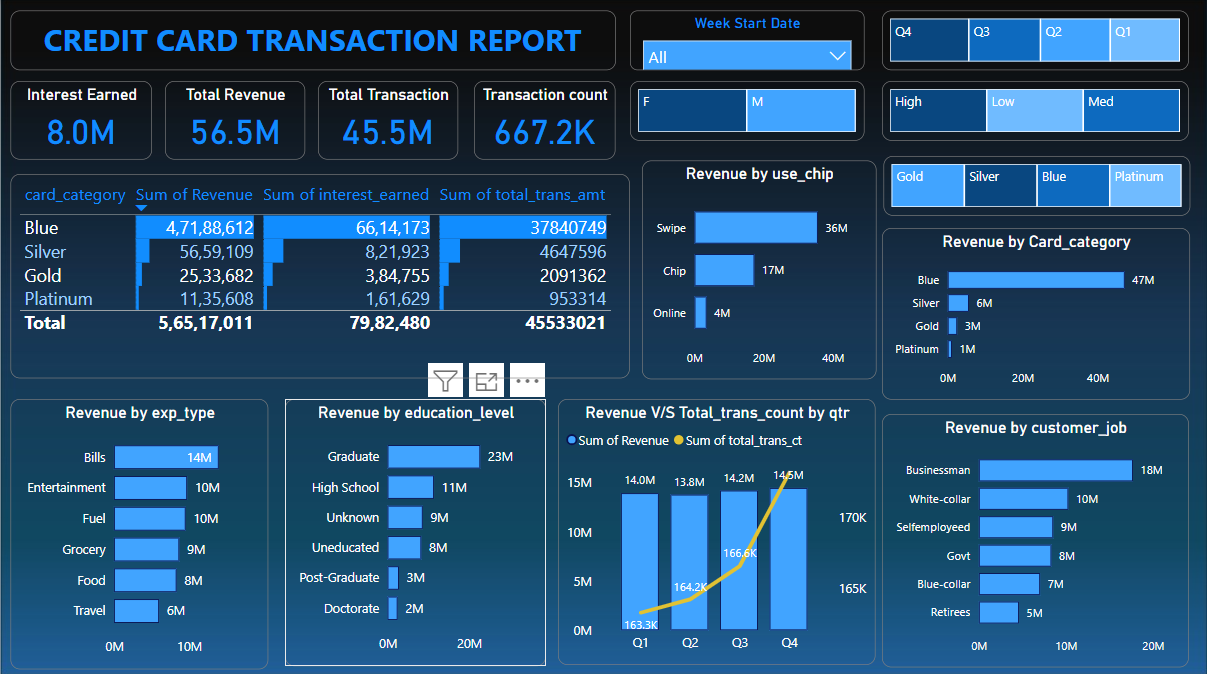

Layout of this report page (visuals, bound fields, positions):
{"tool":"powerbi","page":{"name":"CC Transaction","canvas":[1280,720],"ordinal":0},"visuals":[{"type":"lineClusteredColumnComboChart","title":"Revenue V/S Total_trans_count by qtr","fields":{"Category":["public cc_details.qtr"],"Y":["Sum(public cc_details.Revenue)"],"Y2":["Sum(public cc_details.total_trans_ct)"]},"box":[591.7,423.3,336.7,281.7],"z":0},{"type":"barChart","title":"Revenue by exp_type","fields":{"Category":["public cc_details.exp_type"],"Y":["Sum(public cc_details.Revenue)"]},"box":[11.7,423.3,273.3,286.7],"z":1000},{"type":"clusteredBarChart","title":"Revenue by customer_job","fields":{"Y":["Sum(public cc_details.Revenue)"],"Category":["public cust_detail.customer_job"]},"box":[935,438.3,325,268.3],"z":2000},{"type":"clusteredBarChart","title":"Revenue by education_level","fields":{"Y":["Sum(public cc_details.Revenue)"],"Category":["public cust_detail.education_level"]},"box":[301.7,423.3,276.7,283.3],"z":3000},{"type":"barChart","title":"Revenue by use_chip","fields":{"Category":["public cc_details.use_chip"],"Y":["Sum(public cc_details.Revenue)"]},"box":[680,170,248.3,231.7],"z":4000},{"type":"barChart","title":"Revenue by Card_category","fields":{"Category":["public cc_details.card_category"],"Y":["Sum(public cc_details.Revenue)"]},"box":[935,241.7,326.7,181.7],"z":5000},{"type":"card","title":"Total Revenue","fields":{"Values":["Sum(public cc_details.Revenue)"]},"box":[175,86.7,148.3,83.3],"z":6000},{"type":"card","title":"Transaction count","fields":{"Values":["Sum(public cc_details.total_trans_ct)"]},"box":[503.3,86.7,150,83.3],"z":7000},{"type":"card","title":"Total Transaction","fields":{"Values":["Sum(public cc_details.total_trans_amt)"]},"box":[336.7,86.7,148.3,83.3],"z":8000},{"type":"card","title":"Interest Earned","fields":{"Values":["Sum(public cc_details.interest_earned)"]},"box":[11.7,86.7,150,83.3],"z":9000},{"type":"tableEx","fields":{"Values":["public cc_details.card_category","Sum(public cc_details.Revenue)","Sum(public cc_details.interest_earned)","Sum(public cc_details.total_trans_amt)"]},"box":[11.7,185,656.7,216.7],"z":10000},{"type":"textbox","box":[11.7,11.7,641.7,63.3],"z":11000},{"type":"slicer","title":"Week Start Date","fields":{"Values":["public cc_details.week_start_date"]},"box":[668.3,11.7,248.3,63.3],"z":12000},{"type":"treemap","fields":{"Group":["public cc_details.qtr"],"Values":["Avg(public cc_details.client_num)"]},"box":[935,11.7,325,63.3],"z":13000},{"type":"treemap","fields":{"Group":["public cust_detail.gender"],"Values":["Avg(public cc_details.client_num)"]},"box":[668.3,86.7,248.3,63.3],"z":14000},{"type":"treemap","fields":{"Group":["public cust_detail.Income_group"],"Values":["Avg(public cc_details.client_num)"]},"box":[935,86.7,325,63.3],"z":15000},{"type":"treemap","fields":{"Group":["public cc_details.card_category"],"Values":["Avg(public cc_details.client_num)"]},"box":[936.7,165,325,63.3],"z":16000}]}

Visuals, with their boxes in screenshot pixels (x1, y1, x2, y2), scaled from the page's 1280x720 canvas onto the 1207x674 screenshot:
"Revenue V/S Total_trans_count by qtr" lineClusteredColumnComboChart: 558 396 875 660
"Revenue by exp_type" barChart: 11 396 269 665
"Revenue by customer_job" clusteredBarChart: 882 410 1188 661
"Revenue by education_level" clusteredBarChart: 284 396 545 661
"Revenue by use_chip" barChart: 641 159 875 376
"Revenue by Card_category" barChart: 882 226 1190 396
"Total Revenue" card: 165 81 305 159
"Transaction count" card: 475 81 616 159
"Total Transaction" card: 317 81 457 159
"Interest Earned" card: 11 81 152 159
tableEx - public cc_details.card_category x Sum(public cc_details.Revenue): 11 173 630 376
textbox: 11 11 616 70
"Week Start Date" slicer: 630 11 864 70
treemap - public cc_details.qtr x Avg(public cc_details.client_num): 882 11 1188 70
treemap - public cust_detail.gender x Avg(public cc_details.client_num): 630 81 864 140
treemap - public cust_detail.Income_group x Avg(public cc_details.client_num): 882 81 1188 140
treemap - public cc_details.card_category x Avg(public cc_details.client_num): 883 154 1190 214
